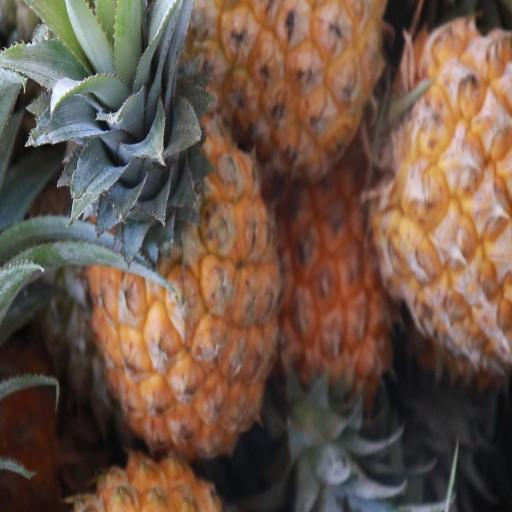Pineapple - v8 v1: (88, 148, 279, 454), (372, 27, 512, 370), (276, 155, 406, 411), (198, 0, 384, 174)
